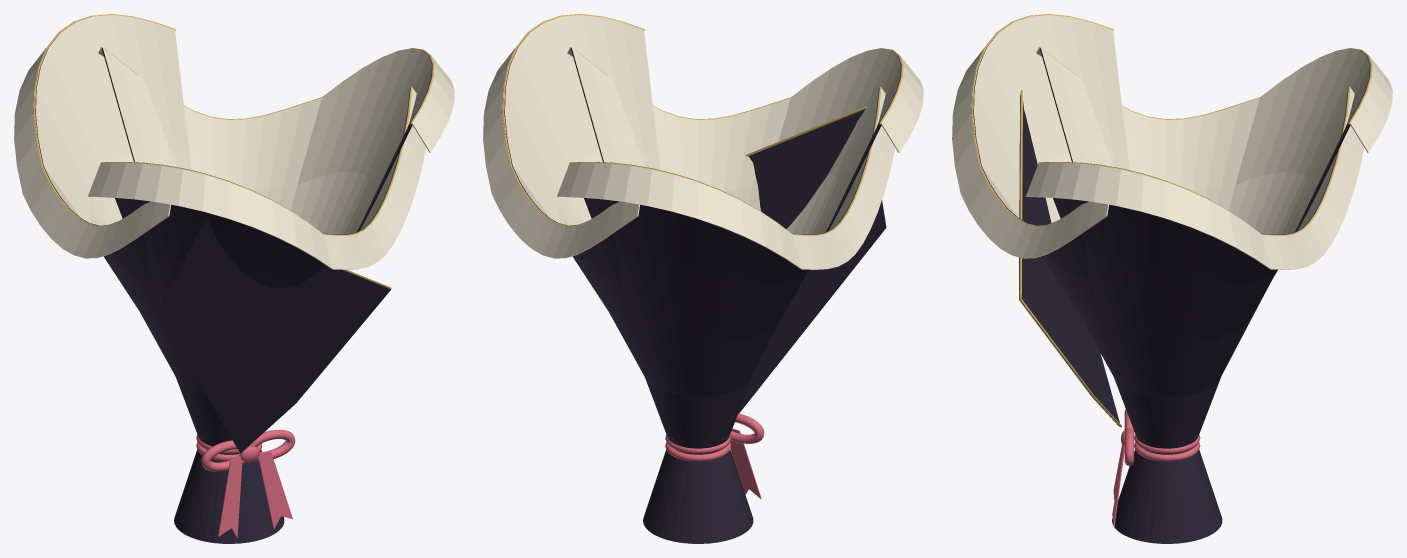
Rendered from bouquet_black.glb.
3 views of the same model, side by side, from view 1: azimuth 30°, elevation 25°; view 2: azimuth 150°, elevation 25°; view 3: azimuth 270°, elevation 25° (orthographic).
Parts seen in each view (by area): view 1: Open_folded_black_sheet.001, Overlapping_diagonal_front_flap, Open_folded_black_sheet.002, Visible_cream_folded_lapel, Open_folded_black_sheet, Visible_cream_folded_lapel.002, Folded_lower_skirt, Folded_lower_skirt.002, Visible_cream_folded_lapel.001, Downward_notched_ribbon.001, Downward_notched_ribbon, Fine_gold_hem.002 (+3 smaller); view 2: Open_folded_black_sheet.002, Open_folded_black_sheet.001, Open_folded_black_sheet, Visible_cream_folded_lapel.002, Overlapping_diagonal_front_flap, Visible_cream_folded_lapel.001, Folded_lower_skirt.002, Folded_lower_skirt.001, Visible_cream_folded_lapel, Downward_notched_ribbon, Fine_gold_hem.001, Fine_gold_hem.002 (+2 smaller); view 3: Open_folded_black_sheet.001, Open_folded_black_sheet.002, Open_folded_black_sheet, Visible_cream_folded_lapel.001, Visible_cream_folded_lapel, Overlapping_diagonal_front_flap, Folded_lower_skirt.001, Folded_lower_skirt, Visible_cream_folded_lapel.002, Diagonal_fold_seam, Fine_gold_hem, Fine_gold_hem.001 (+1 smaller).
Boxes of the visible parts, <box> form: Open_folded_black_sheet.001: <box>102,47,432,234</box>; Overlapping_diagonal_front_flap: <box>158,216,390,453</box>; Open_folded_black_sheet.002: <box>35,15,207,449</box>; Visible_cream_folded_lapel: <box>88,88,426,269</box>; Open_folded_black_sheet: <box>115,87,410,454</box>; Visible_cream_folded_lapel.002: <box>14,33,170,258</box>; Folded_lower_skirt: <box>191,449,284,543</box>; Folded_lower_skirt.002: <box>174,449,219,542</box>; Visible_cream_folded_lapel.001: <box>98,49,454,152</box>; Downward_notched_ribbon.001: <box>258,452,292,528</box>; Downward_notched_ribbon: <box>218,457,242,537</box>; Fine_gold_hem.002: <box>33,14,175,226</box>; Open_folded_black_sheet.002: <box>578,87,879,454</box>; Open_folded_black_sheet.001: <box>504,15,687,453</box>; Open_folded_black_sheet: <box>571,47,901,437</box>; Visible_cream_folded_lapel.002: <box>557,88,895,269</box>; Overlapping_diagonal_front_flap: <box>738,109,886,413</box>; Visible_cream_folded_lapel.001: <box>483,22,639,258</box>; Folded_lower_skirt.002: <box>660,449,753,543</box>; Folded_lower_skirt.001: <box>643,449,688,542</box>; Visible_cream_folded_lapel: <box>567,48,923,152</box>; Downward_notched_ribbon: <box>730,428,761,498</box>; Fine_gold_hem.001: <box>502,14,644,226</box>; Fine_gold_hem.002: <box>570,86,881,235</box>; Open_folded_black_sheet.001: <box>1053,87,1348,454</box>; Open_folded_black_sheet.002: <box>1040,47,1370,437</box>; Open_folded_black_sheet: <box>973,15,1156,453</box>; Visible_cream_folded_lapel.001: <box>1026,88,1364,269</box>; Visible_cream_folded_lapel: <box>952,33,1108,258</box>; Overlapping_diagonal_front_flap: <box>1019,95,1119,425</box>; Folded_lower_skirt.001: <box>1129,450,1222,543</box>; Folded_lower_skirt: <box>1112,449,1157,542</box>; Visible_cream_folded_lapel.002: <box>1036,49,1392,152</box>; Diagonal_fold_seam: <box>1019,90,1121,427</box>; Fine_gold_hem: <box>971,14,1113,226</box>; Fine_gold_hem.001: <box>1039,86,1350,235</box>.
Bounding box in the file's own units: 0.3522 × 0.3965 × 0.3606.
